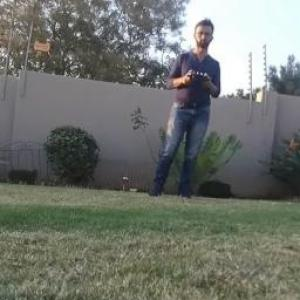follow: (141, 12, 225, 200)
